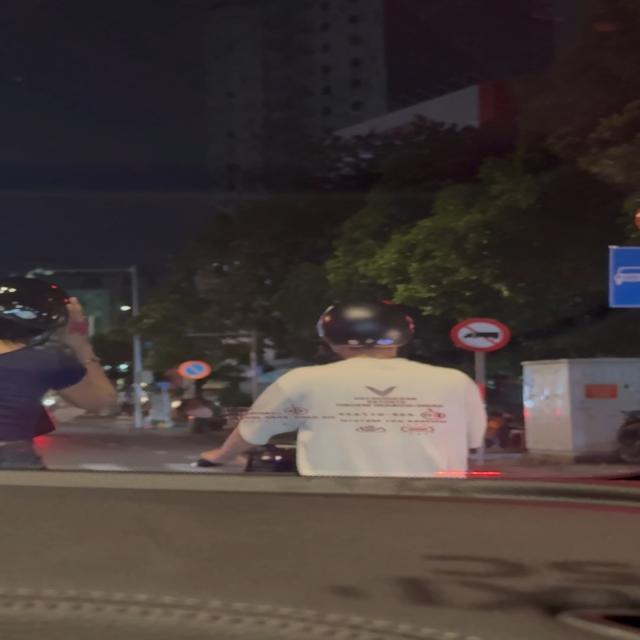Bien bao cam xe so-mi ro-mooc: (445, 317, 517, 353)
